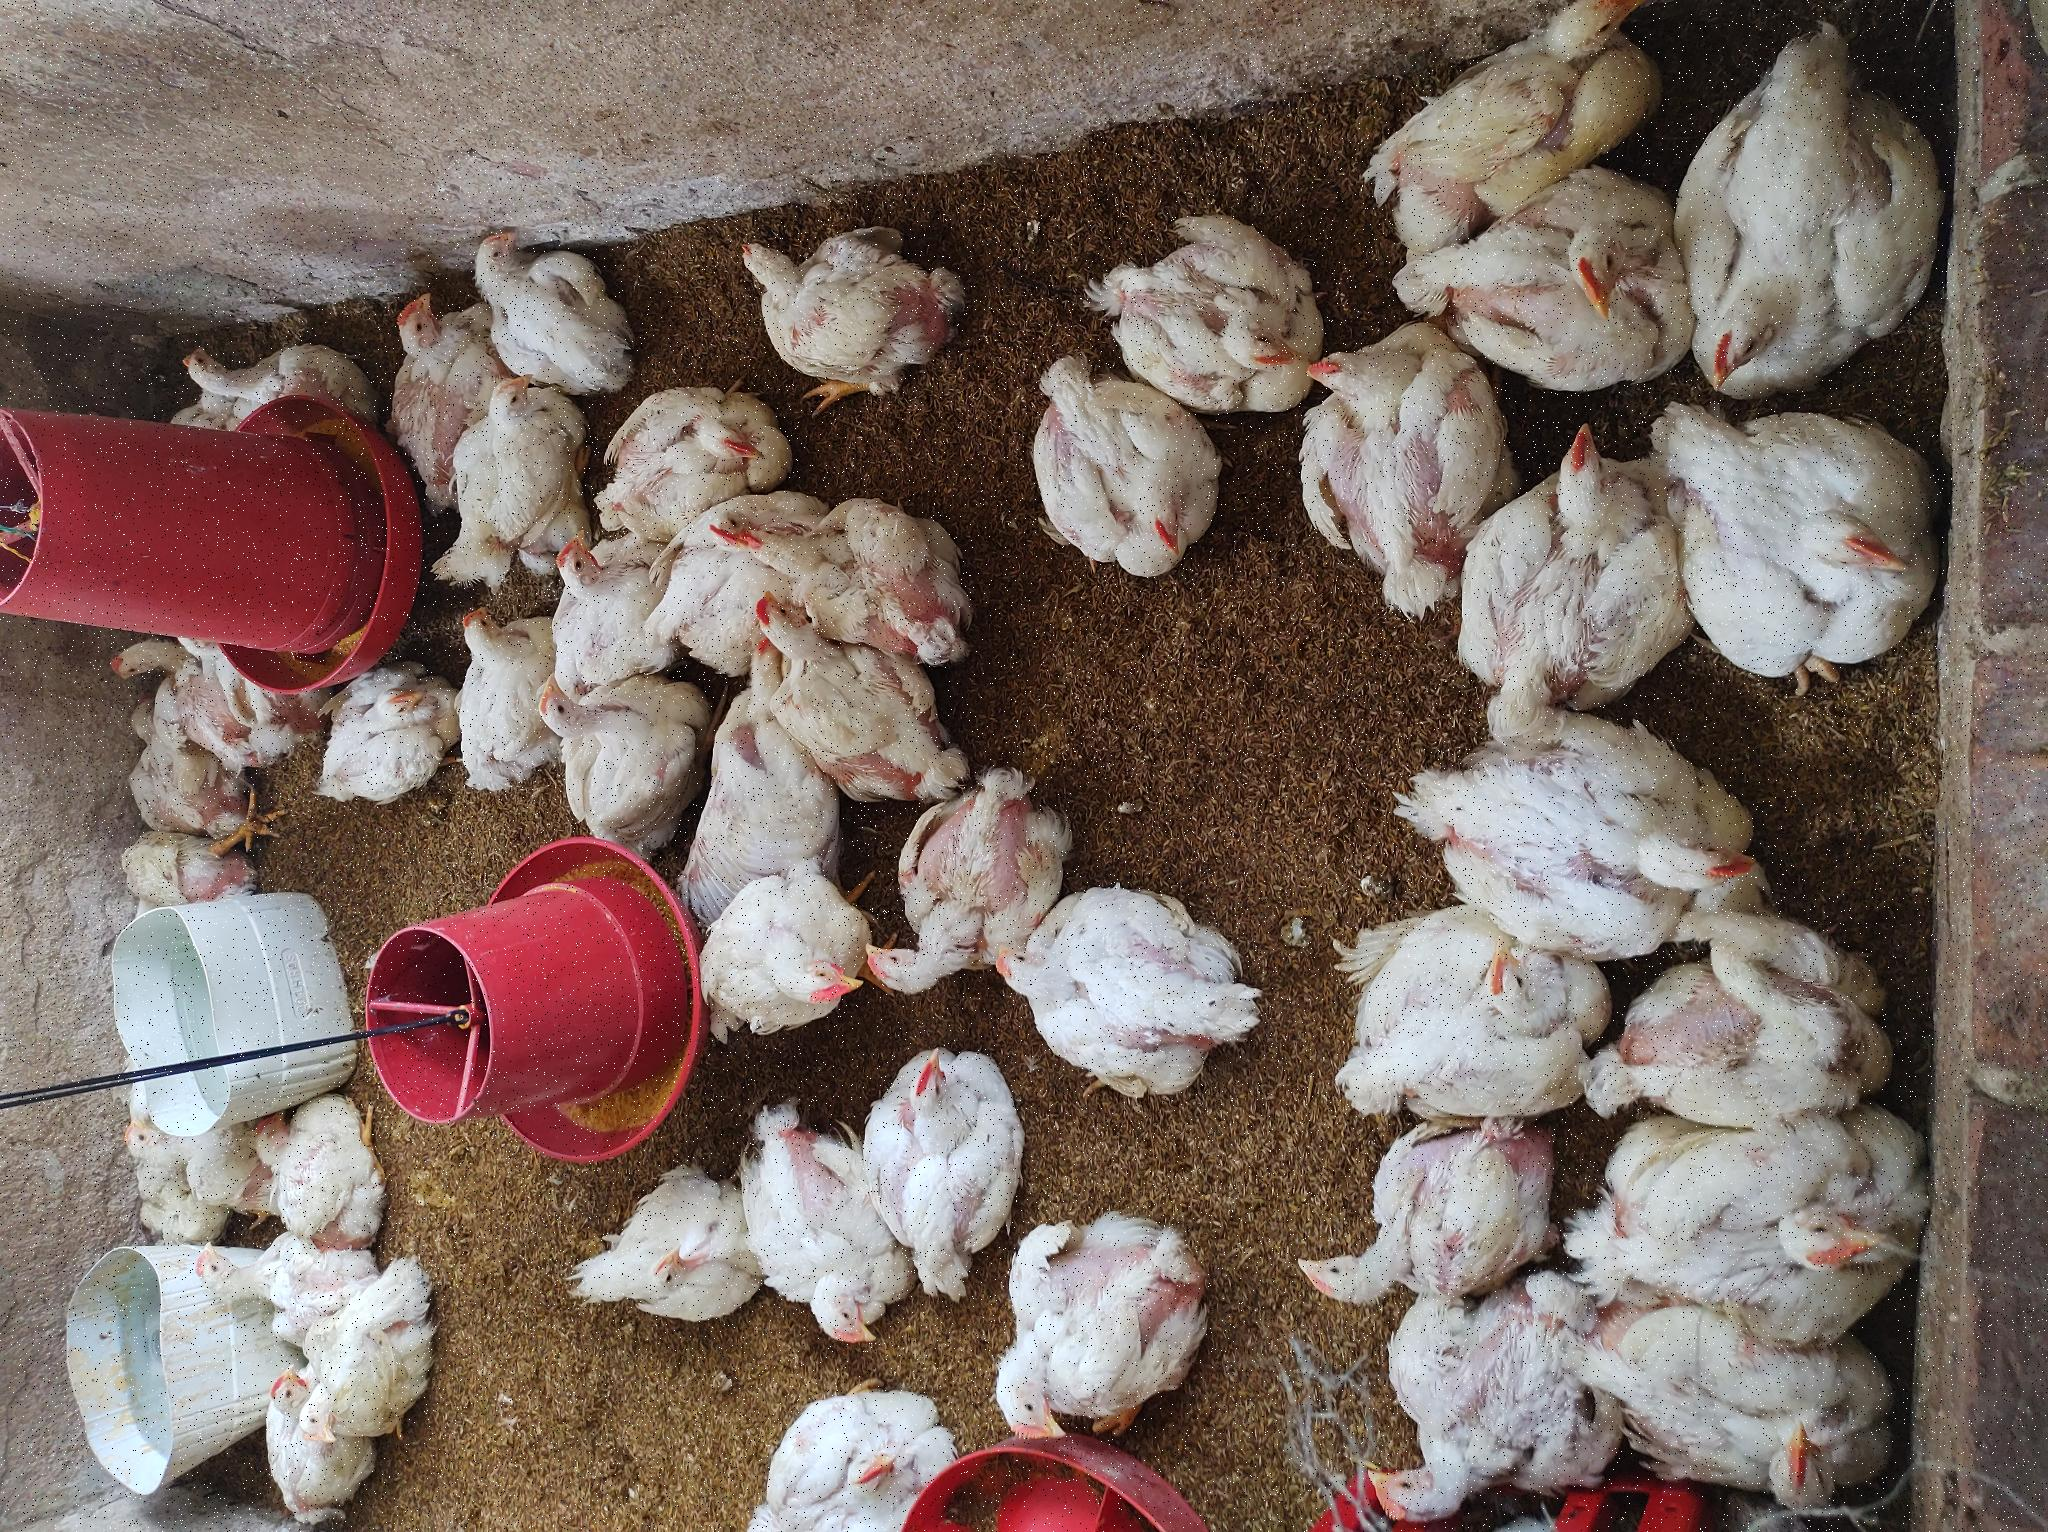Pollos: (444, 995, 650, 1266), (524, 867, 771, 1093), (224, 1281, 430, 1532), (241, 842, 512, 1020), (80, 998, 304, 1213), (1108, 1098, 1319, 1312), (956, 1294, 1194, 1482), (1134, 752, 1322, 970), (23, 1349, 246, 1532), (442, 1336, 645, 1532), (951, 1020, 1157, 1204), (756, 750, 930, 957), (193, 541, 367, 747), (191, 752, 417, 908), (2, 732, 146, 957), (619, 698, 848, 840), (1131, 473, 1334, 629), (494, 692, 655, 858), (88, 298, 275, 439), (693, 531, 861, 681), (1384, 1366, 1533, 1532), (595, 1432, 833, 1532), (956, 451, 1160, 562), (1154, 1429, 1367, 1532), (933, 748, 1026, 978), (840, 1456, 1104, 1532), (729, 311, 869, 447), (296, 254, 433, 394), (1047, 605, 1149, 792), (854, 542, 1010, 655), (730, 451, 935, 536), (1089, 369, 1245, 475), (198, 193, 298, 352), (1121, 183, 1205, 365), (687, 117, 782, 264), (618, 109, 700, 248), (359, 111, 422, 204), (841, 113, 911, 193), (113, 261, 171, 315), (980, 706, 1026, 752)
